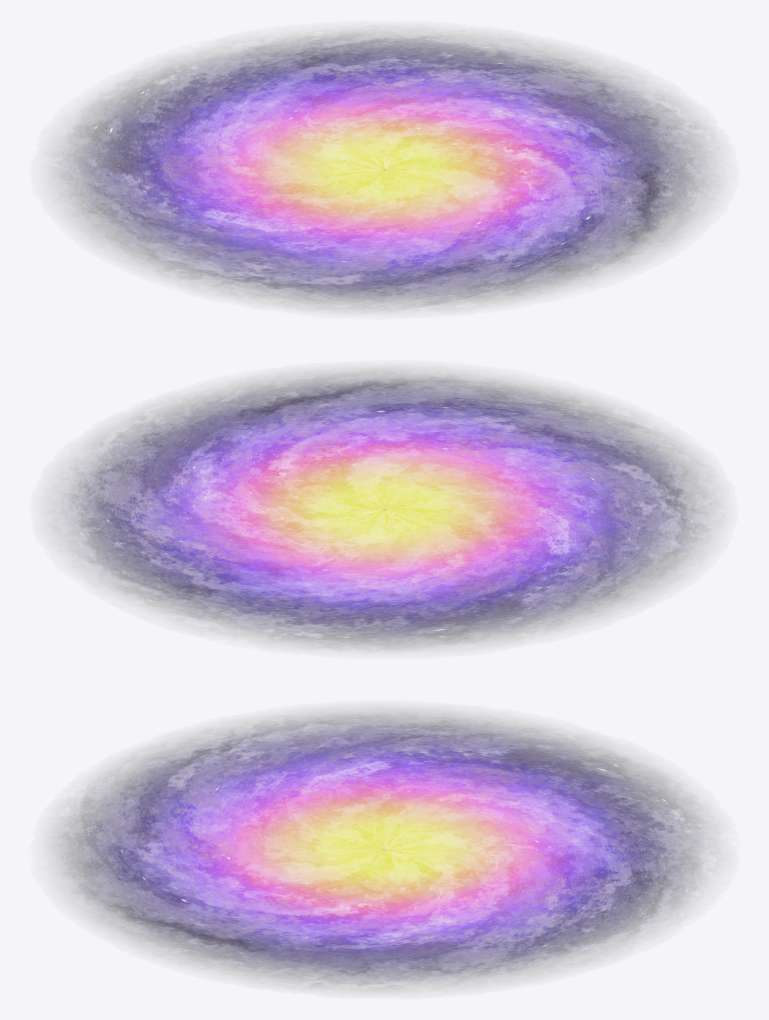
File: insta_galaxy_obj2.gltf
The picture shows the model from 3 angles, top to bottom: view 1: azimuth 30°, elevation 25°; view 2: azimuth 150°, elevation 25°; view 3: azimuth 270°, elevation 25°; orthographic projection.
Parts seen in each view (by area): view 1: Sphere; view 2: Sphere; view 3: Sphere.
Part boxes in pixels (x1,y1,x2,y2): Sphere: [52, 29, 719, 311]; Sphere: [49, 368, 720, 651]; Sphere: [52, 708, 717, 991].
Size of the model in its own units: 1.99 by 0 by 2.
Materials: 1 (1 with a texture image).
